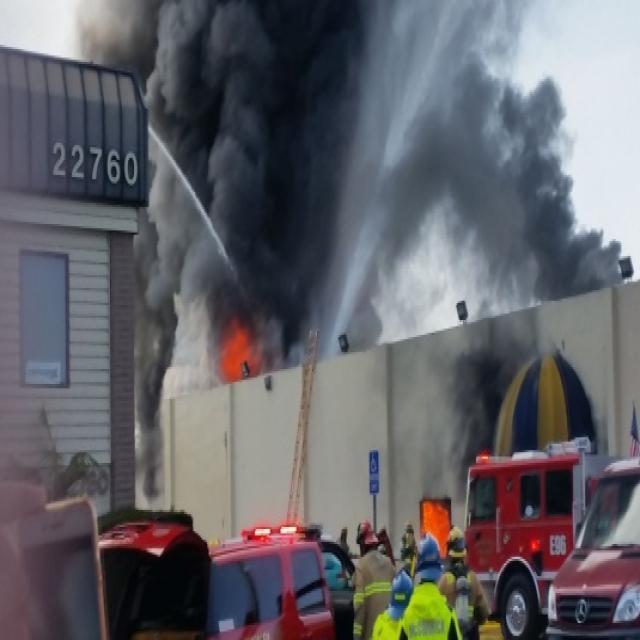Fire: (218, 326, 254, 362)
Smoke: (164, 3, 372, 224), (463, 138, 561, 255), (224, 225, 336, 316)
